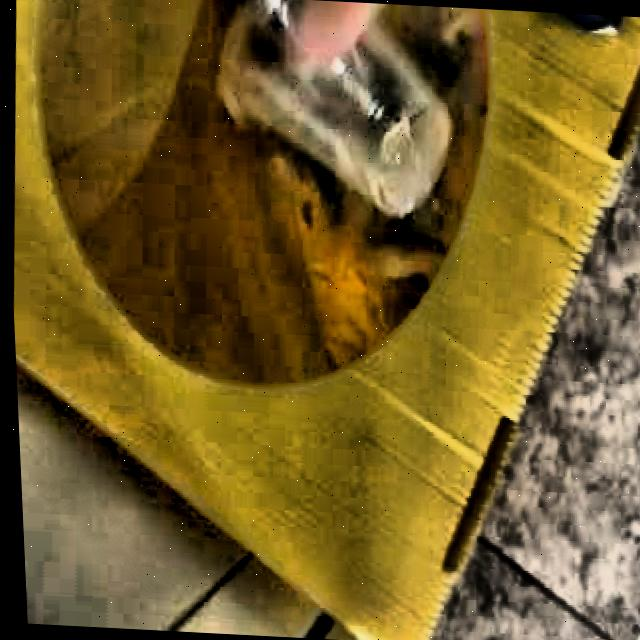plastic: (219, 0, 450, 215)
